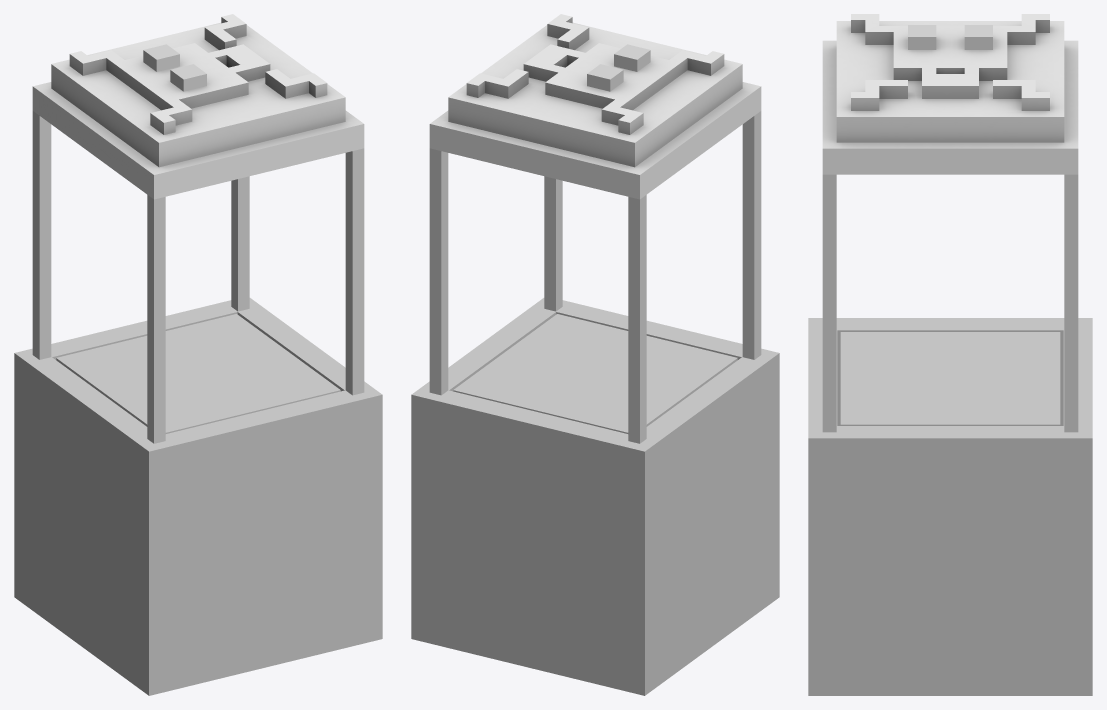
File: EnemySpawnPoint.fbx
3 renders of one model, left to right at view 1: azimuth 30°, elevation 25°; view 2: azimuth 150°, elevation 25°; view 3: azimuth 270°, elevation 25°, orthographic. The views are drawn at different scales.
Parts seen in each view (by area): view 1: ES_Base, ES_Top, ES_Lift, ES_Rods, ES_Lights; view 2: ES_Base, ES_Top, ES_Lift, ES_Rods, ES_Lights; view 3: ES_Base, ES_Top, ES_Lift, ES_Rods, ES_Lights.
Boxes of the visible parts, x1=… form: ES_Base: x1=14, y1=298, x2=382, y2=695; ES_Top: x1=32, y1=14, x2=364, y2=199; ES_Lift: x1=56, y1=314, x2=340, y2=433; ES_Rods: x1=32, y1=111, x2=364, y2=443; ES_Lights: x1=143, y1=44, x2=206, y2=91; ES_Base: x1=411, y1=298, x2=779, y2=695; ES_Top: x1=429, y1=14, x2=761, y2=199; ES_Lift: x1=453, y1=314, x2=737, y2=433; ES_Rods: x1=429, y1=111, x2=761, y2=443; ES_Lights: x1=587, y1=44, x2=650, y2=91; ES_Base: x1=808, y1=318, x2=1092, y2=695; ES_Top: x1=822, y1=14, x2=1078, y2=174; ES_Lift: x1=840, y1=332, x2=1060, y2=425; ES_Rods: x1=822, y1=174, x2=1078, y2=432; ES_Lights: x1=908, y1=25, x2=992, y2=49.
Size of the model in its own units: 400 by 920 by 400.
